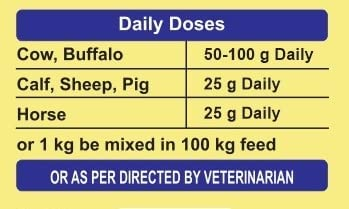1: (39, 134, 47, 158)
100: (182, 138, 209, 151)
25: (204, 77, 221, 90), (204, 107, 221, 119)
50-100: (205, 48, 254, 60)
Buffalo: (64, 40, 123, 60)
Calf,: (17, 77, 54, 93)
Cow,: (17, 40, 57, 63)
Daily: (242, 77, 280, 93), (275, 48, 313, 63), (242, 107, 280, 122)
Horse: (18, 108, 66, 121)
Pig: (123, 77, 148, 94)
Sheep,: (60, 77, 116, 94)
be: (80, 138, 99, 151)
feed: (240, 138, 275, 151)
g: (260, 51, 269, 63), (228, 80, 236, 92), (228, 110, 236, 122)
in: (161, 138, 175, 151)
kg: (55, 138, 73, 154), (216, 138, 234, 154)
mixed: (105, 138, 154, 151)
or: (17, 138, 46, 151)
